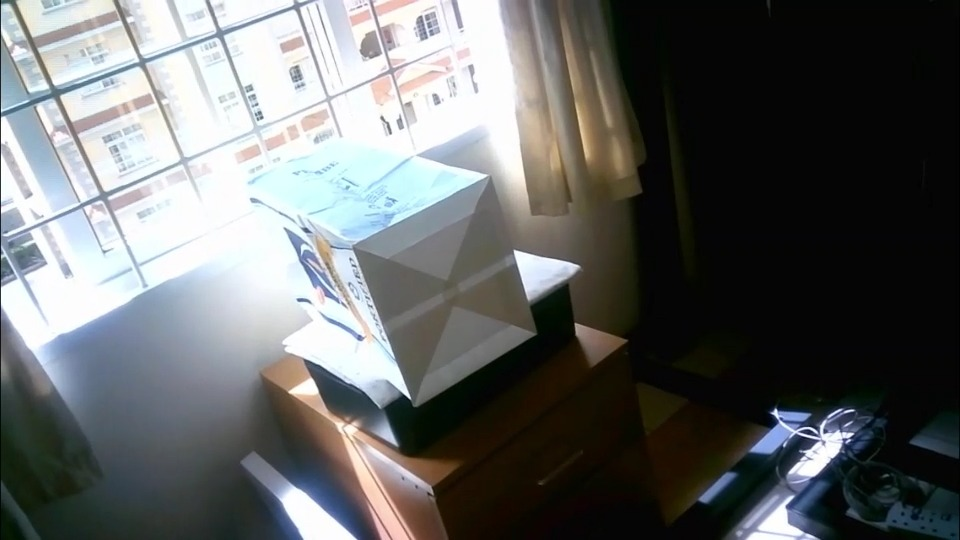wheat_flour_blue_label: (251, 141, 533, 406)
